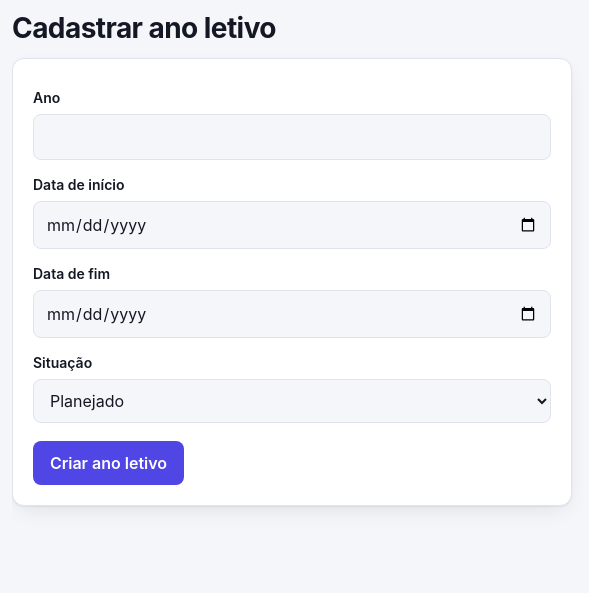
Scenario: AnoLetivoPage › creates a valid ano letivo, shows "Salvo com sucesso" and lists it
Type "2026" into the number field labelled "Ano" at (292, 137), box [33,114,551,160]
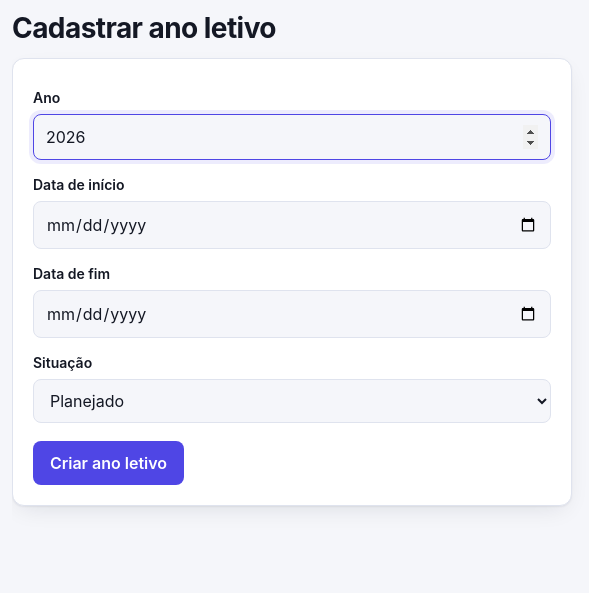
Type "2026-02-01" into the date field labelled "Data de início" at (292, 225), box [33,201,551,249]
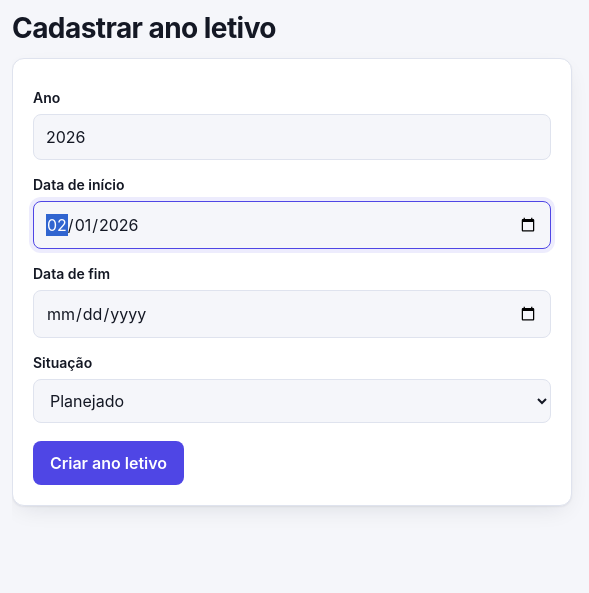
Type "2026-12-15" into the date field labelled "Data de fim" at (292, 314), box [33,290,551,338]
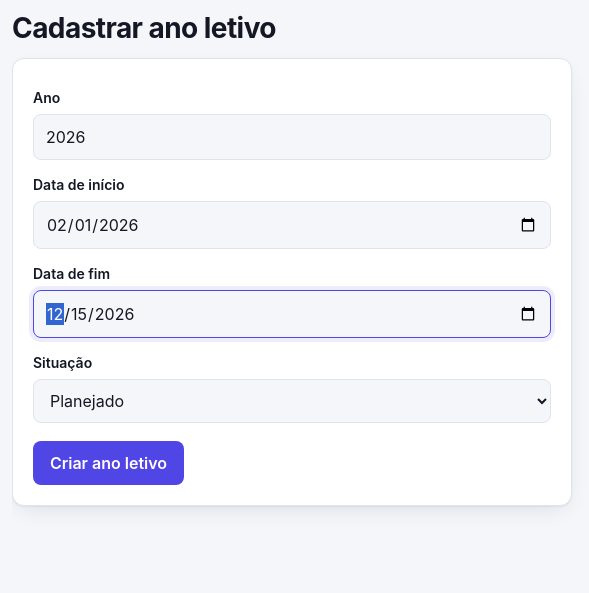
Click the button "Criar ano letivo" at (109, 463), box [33,441,184,485]
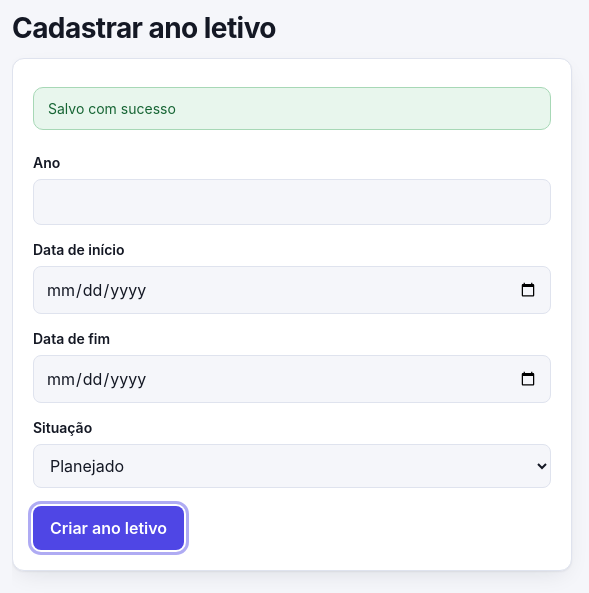
Now the text "Salvo com sucesso" is shown, box [33,87,551,130]
